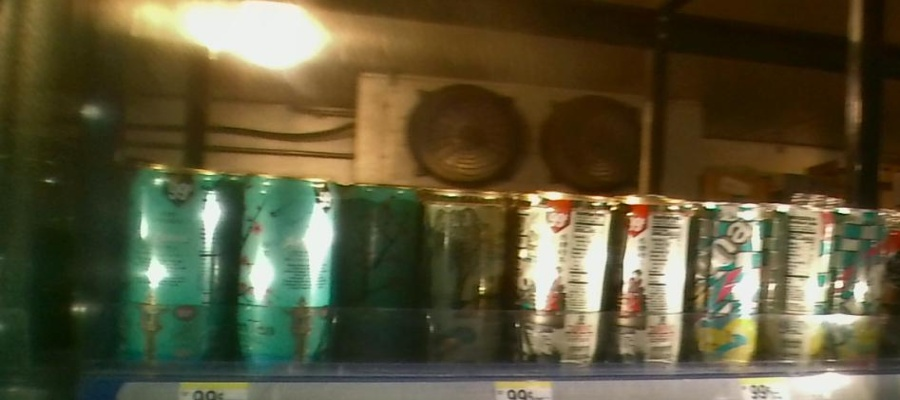bottle: (114, 160, 234, 380), (237, 163, 340, 375), (515, 186, 611, 380), (424, 180, 507, 370), (615, 180, 691, 375), (347, 171, 418, 366), (692, 186, 765, 375), (764, 194, 834, 375), (837, 200, 889, 380)
